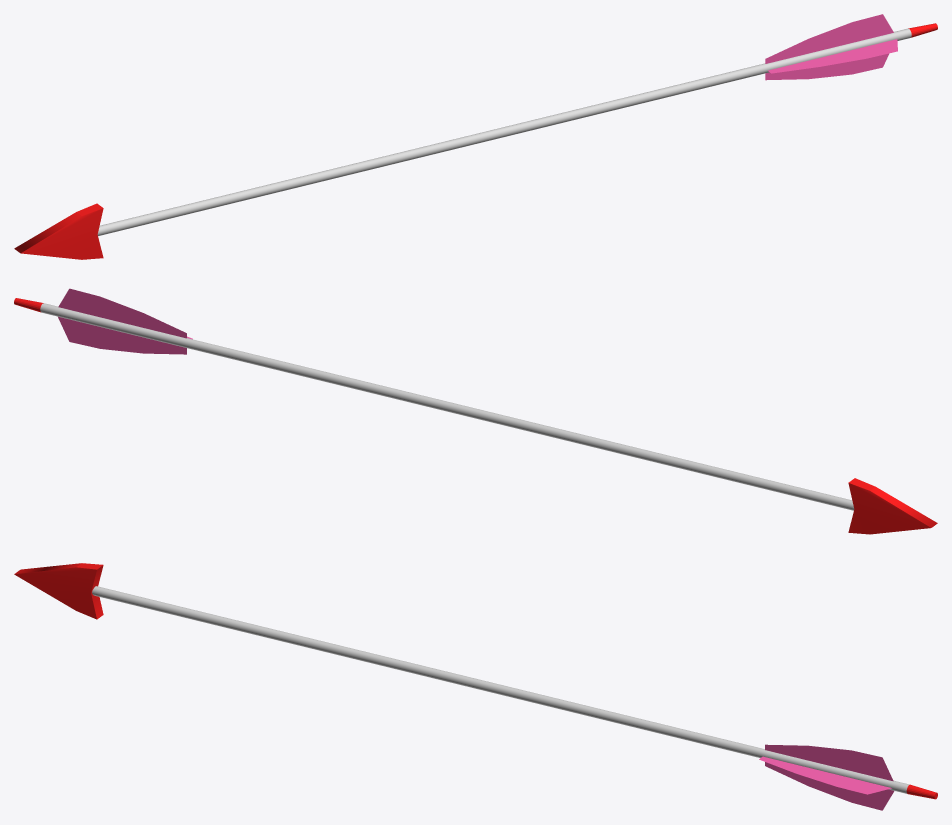
Rendered from arrow.FBX.
3 renders of one model, top to bottom at view 1: azimuth 30°, elevation 25°; view 2: azimuth 150°, elevation 25°; view 3: azimuth 330°, elevation 25°, orthographic.
Parts seen in each view (by area): view 1: Cylinder001; view 2: Cylinder001; view 3: Cylinder001.
Boxes of the visible parts, x1,y1,x2,y2 form: Cylinder001: (14, 14, 937, 259); Cylinder001: (14, 288, 937, 534); Cylinder001: (14, 563, 937, 810).
Bounding box in the file's own units: 176 × 9.76 × 6.13.
